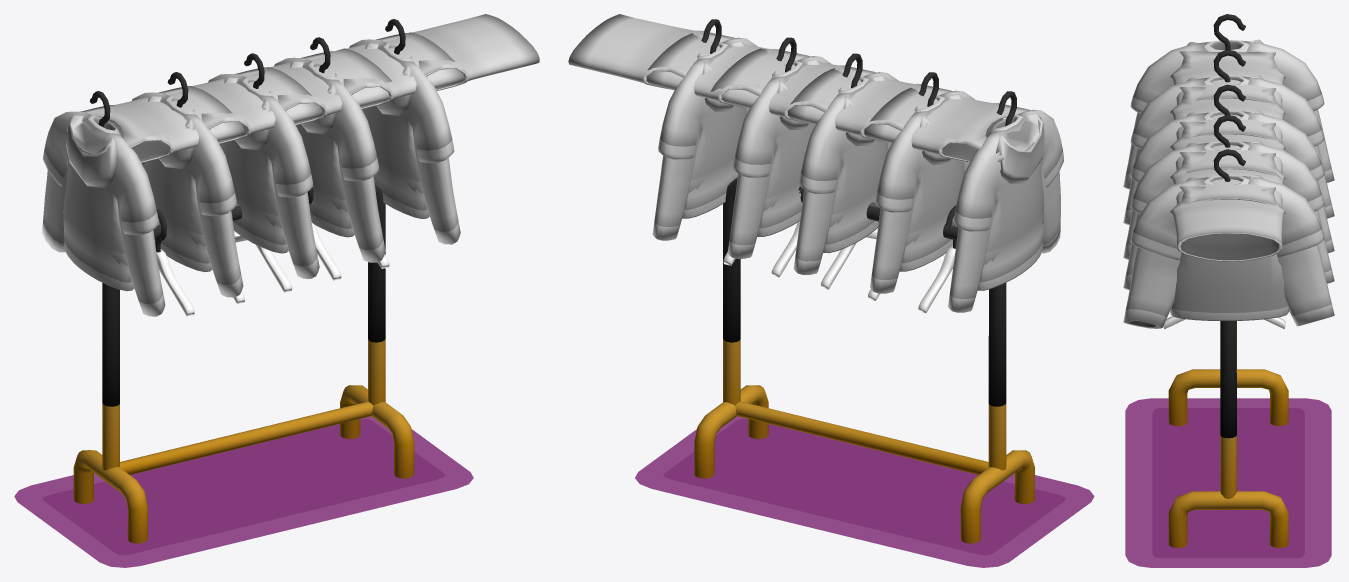
Rendered from rail.fbx.
The picture shows the model from 3 angles, left to right: view 1: azimuth 30°, elevation 25°; view 2: azimuth 150°, elevation 25°; view 3: azimuth 270°, elevation 25°; orthographic projection. The views are drawn at different scales.
Visible parts, largest first — view 1: Plane, clothes_man_tshirt__4_, clothes_man_tshirt__3_, clothes_man_tshirt__2_, clothes_man_tshirt, clothes_man_hoodie__4_, clothes_man_tshirt__1_, Plane_001, Plane_002, clothes_man_tanktop__4_, clothes_man_tanktop, clothes_man_tanktop__2_ (+8 smaller); view 2: Plane, clothes_man_tshirt__4_, clothes_man_tshirt__3_, clothes_man_tshirt__2_, clothes_man_tshirt, Plane_001, clothes_man_tshirt__1_, clothes_man_hoodie__4_, clothes_man_tanktop__4_, Plane_002, clothes_man_tanktop, clothes_man_tanktop__2_ (+8 smaller); view 3: Plane, clothes_man_tshirt, clothes_man_tanktop, Plane_002, clothes_man_hoodie__1_, clothes_man_tshirt__4_, clothes_man_tanktop__4_, clothes_man_tshirt__2_, clothes_man_tshirt__1_, clothes_man_tshirt__3_, Plane_001, clothes_man_tanktop__2_ (+12 smaller).
Boxes of the visible parts, left/top/right/bottom form: Plane: left=14, top=416, right=473, bottom=567; clothes_man_tshirt__4_: left=43, top=111, right=158, bottom=291; clothes_man_tshirt__3_: left=208, top=74, right=313, bottom=253; clothes_man_tshirt__2_: left=132, top=92, right=236, bottom=271; clothes_man_tshirt: left=349, top=39, right=454, bottom=218; clothes_man_hoodie__4_: left=42, top=114, right=165, bottom=316; clothes_man_tshirt__1_: left=274, top=57, right=379, bottom=237; Plane_001: left=102, top=180, right=385, bottom=470; Plane_002: left=73, top=385, right=414, bottom=543; clothes_man_tanktop__4_: left=67, top=86, right=244, bottom=162; clothes_man_tanktop: left=376, top=14, right=539, bottom=90; clothes_man_tanktop__2_: left=158, top=67, right=322, bottom=143; Plane: left=635, top=416, right=1094, bottom=567; clothes_man_tshirt__4_: left=953, top=109, right=1063, bottom=290; clothes_man_tshirt__3_: left=799, top=72, right=898, bottom=253; clothes_man_tshirt__2_: left=875, top=90, right=975, bottom=271; clothes_man_tshirt: left=658, top=37, right=757, bottom=218; Plane_001: left=723, top=177, right=1006, bottom=470; clothes_man_tshirt__1_: left=733, top=56, right=831, bottom=236; clothes_man_hoodie__4_: left=948, top=113, right=1060, bottom=312; clothes_man_tanktop__4_: left=864, top=87, right=1034, bottom=162; Plane_002: left=694, top=385, right=1034, bottom=543; clothes_man_tanktop: left=568, top=14, right=734, bottom=89; clothes_man_tanktop__2_: left=787, top=68, right=952, bottom=142; Plane: left=1125, top=398, right=1331, bottom=567; clothes_man_tshirt: left=1130, top=175, right=1324, bottom=320; clothes_man_tanktop: left=1170, top=186, right=1285, bottom=261; Plane_002: left=1168, top=369, right=1288, bottom=547; clothes_man_hoodie__1_: left=1123, top=175, right=1334, bottom=328; clothes_man_tshirt__4_: left=1130, top=40, right=1324, bottom=113; clothes_man_tanktop__4_: left=1170, top=51, right=1285, bottom=107; clothes_man_tshirt__2_: left=1130, top=75, right=1324, bottom=148; clothes_man_tshirt__1_: left=1130, top=140, right=1324, bottom=213; clothes_man_tshirt__3_: left=1130, top=110, right=1324, bottom=182; Plane_001: left=1220, top=321, right=1236, bottom=499; clothes_man_tanktop__2_: left=1170, top=86, right=1285, bottom=142.
Bounding box in the file's own units: 326 × 294 × 140.
